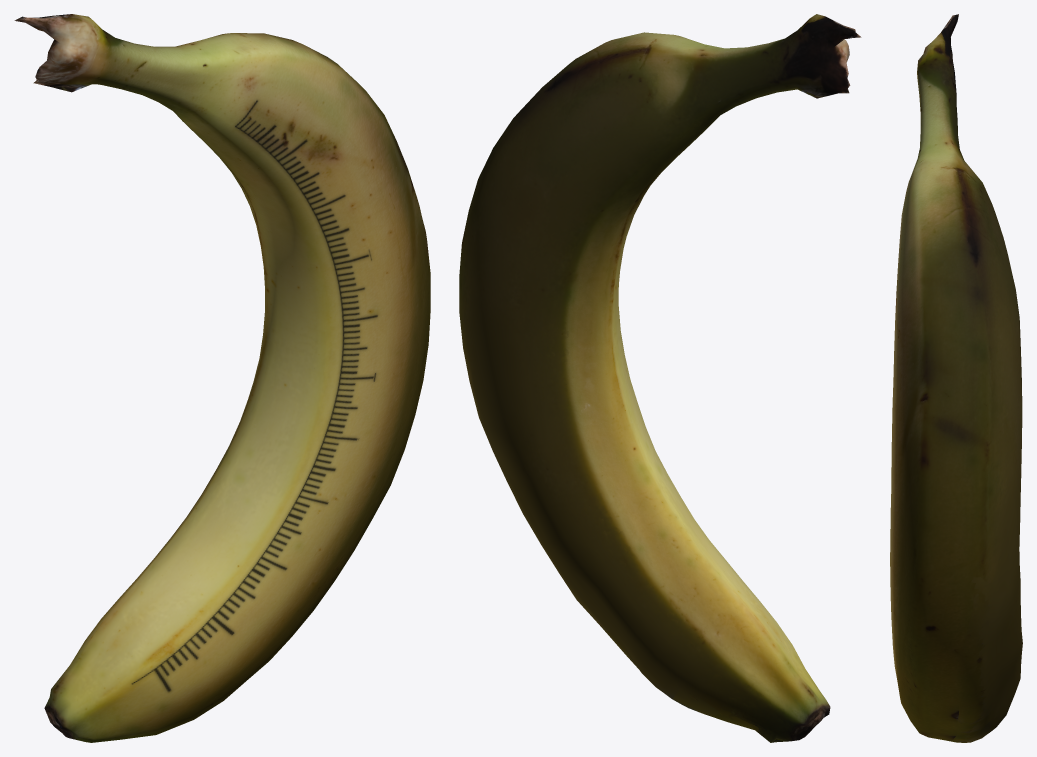
The model's file is Banana.dae.
3 views of the same model, side by side, from view 1: azimuth 30°, elevation 25°; view 2: azimuth 150°, elevation 25°; view 3: azimuth 270°, elevation 25° (orthographic). The views are drawn at different scales.
Visible parts, largest first — view 1: Banana; view 2: Banana; view 3: Banana.
Part boxes in pixels (left/top/right/bottom): Banana: left=14, top=14, right=430, bottom=742; Banana: left=459, top=14, right=861, bottom=742; Banana: left=890, top=14, right=1022, bottom=742.
Bounding box in the file's own units: 11.24 × 3.57 × 19.77.
1 material, 1 textured.
